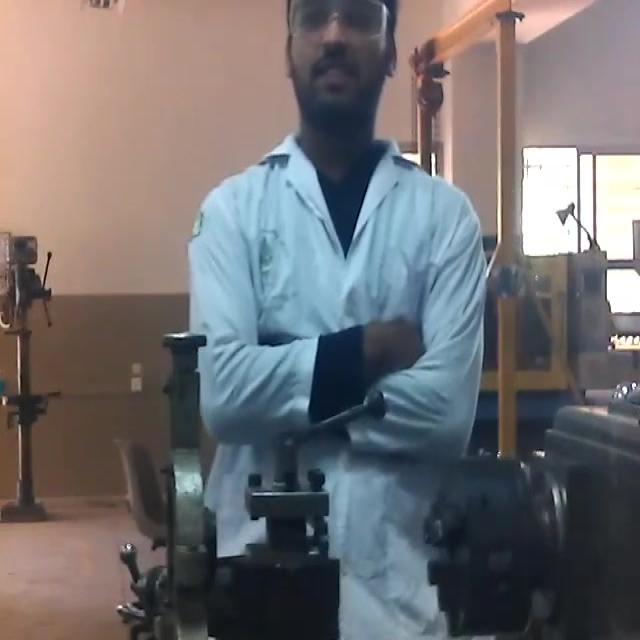googles: (284, 0, 396, 57)
labcoat: (181, 124, 490, 640)
